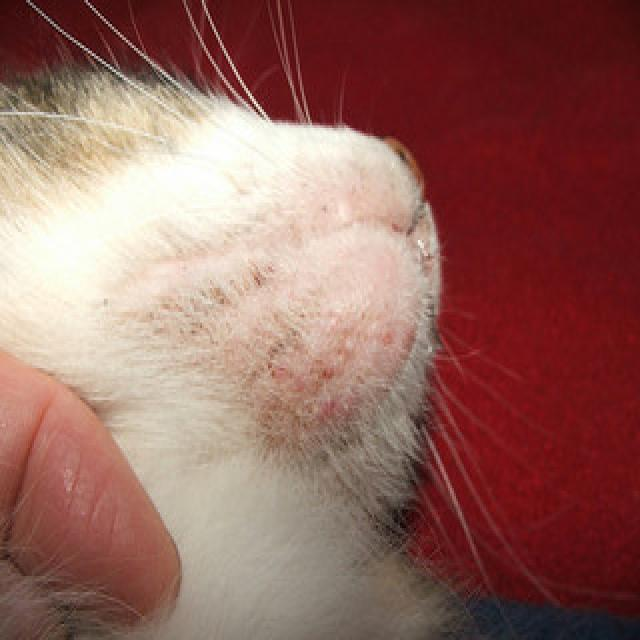cat-acne: (245, 299, 418, 451)
